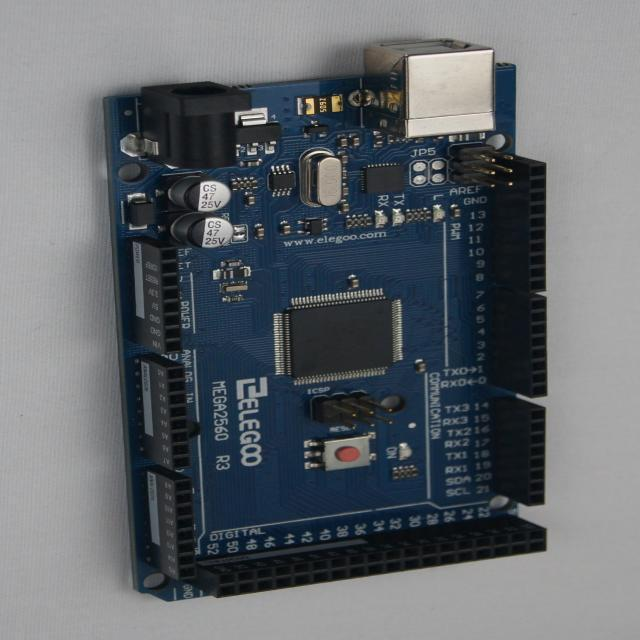Arduino Mega 2560 -Blue-: (107, 40, 548, 601)
